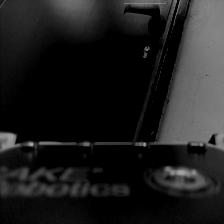Door Handle: (124, 3, 166, 34)
Lock: (138, 44, 156, 68)
